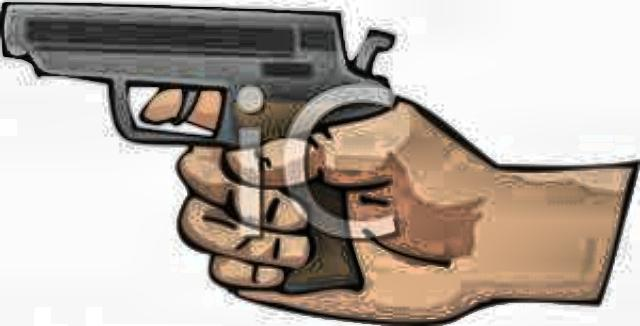pistol: (0, 0, 390, 298)
